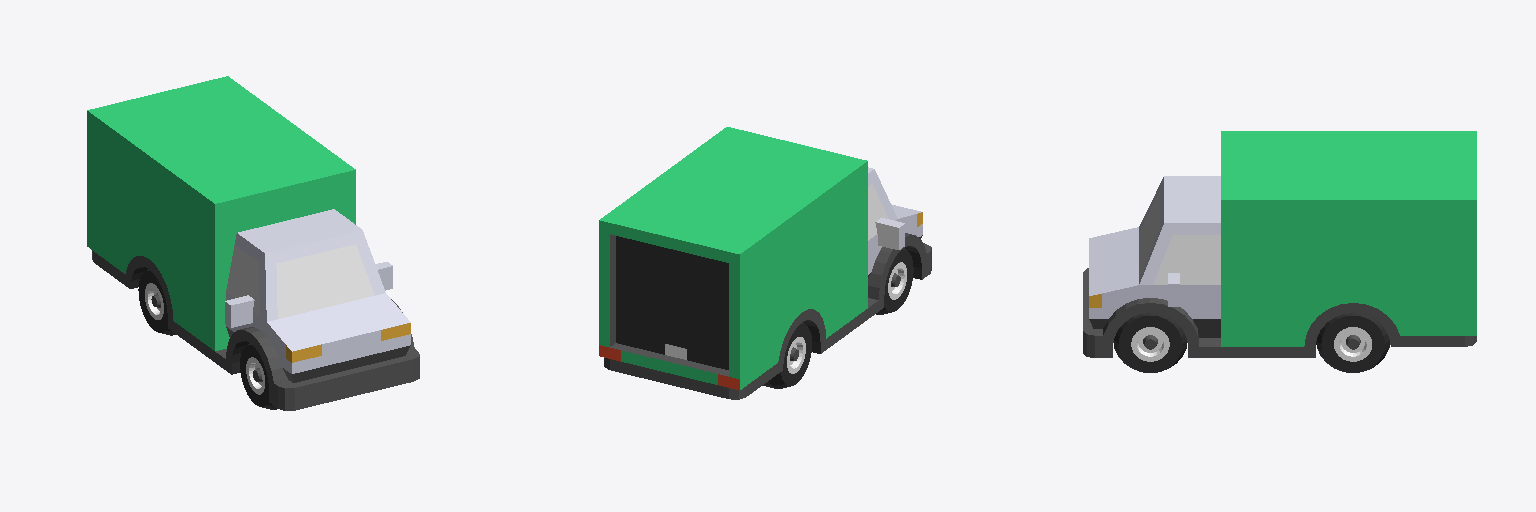
File: delivery.obj
3 renders of one model, left to right at view 1: azimuth 30°, elevation 25°; view 2: azimuth 150°, elevation 25°; view 3: azimuth 270°, elevation 25°, orthographic.
Parts seen in each view (by area): view 1: body, wheel_frontRight, wheel_backRight; view 2: body, door, wheel_backRight, wheel_frontRight; view 3: body, wheel_backLeft, wheel_frontLeft.
Part boxes in pixels (x1,y1,x2,y2): body: (87,76,419,410); wheel_frontRight: (240,343,276,409); wheel_backRight: (138,269,175,335); body: (599,127,931,399); door: (616,236,728,369); wheel_backRight: (762,322,811,388); wheel_frontRight: (876,248,913,314); body: (1083,131,1476,357); wheel_backLeft: (1316,313,1389,372); wheel_frontLeft: (1114,313,1186,372).
Bounding box in the file's own units: 1.5 × 1.6 × 3.15.